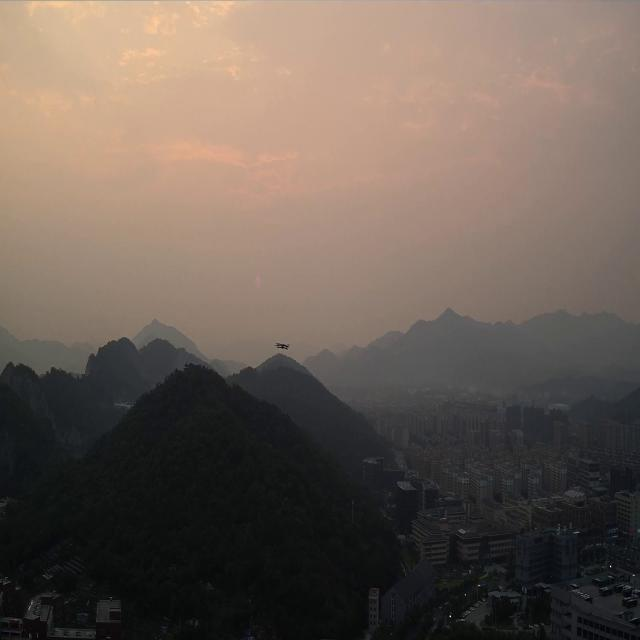UAV: (274, 342, 291, 350)
